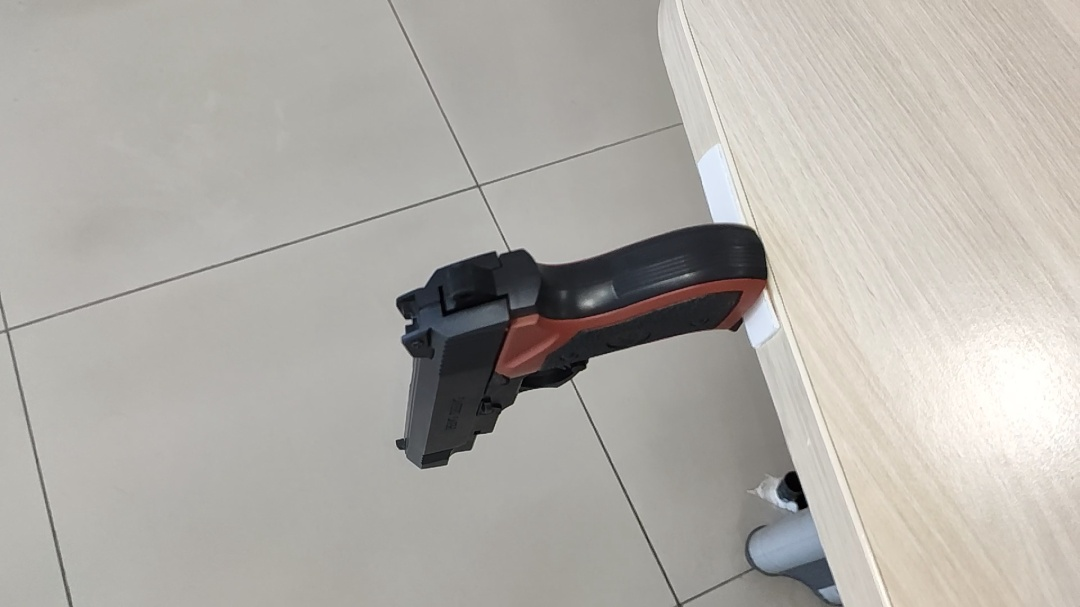gun: (389, 220, 771, 476)
